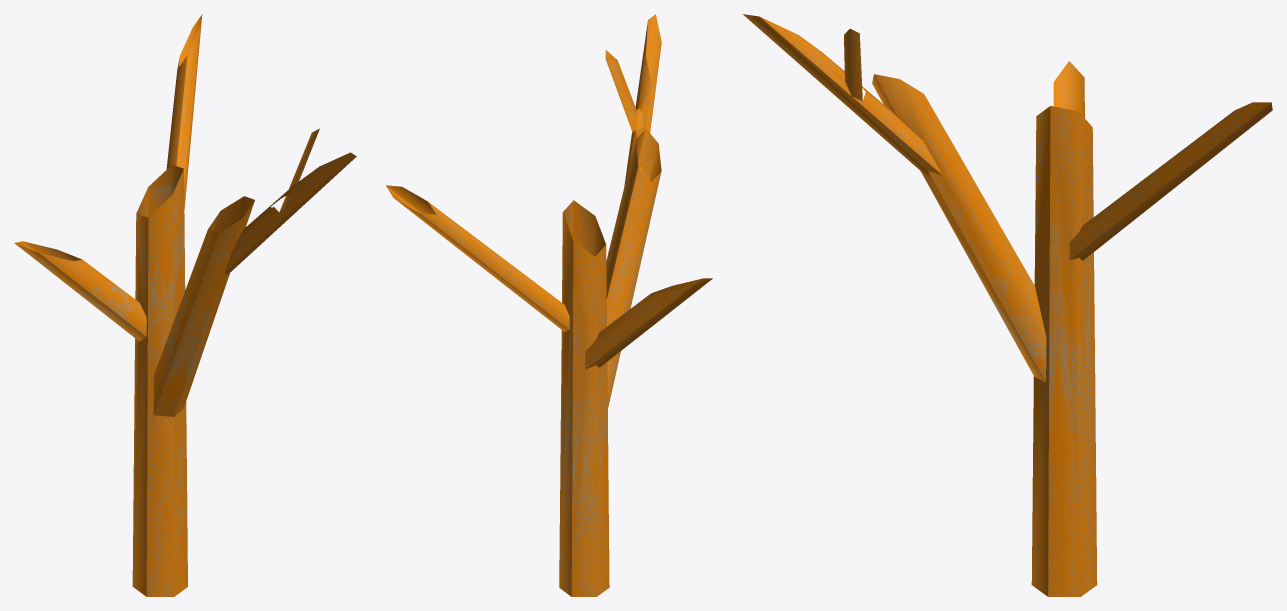
File: Willow_wood(orange).obj
The picture shows the model from 3 angles, left to right: view 1: azimuth 30°, elevation 25°; view 2: azimuth 150°, elevation 25°; view 3: azimuth 270°, elevation 25°; orthographic projection. The views are drawn at different scales.
Visible parts, largest first — view 1: Mesh1 Group1 Model; view 2: Mesh1 Group1 Model; view 3: Mesh1 Group1 Model.
Part boxes in pixels (x1,y1,x2,y2): Mesh1 Group1 Model: [14, 14, 356, 596]; Mesh1 Group1 Model: [386, 14, 712, 596]; Mesh1 Group1 Model: [743, 14, 1272, 596].
Bounding box in the file's own units: 2091 × 3757 × 2986.
